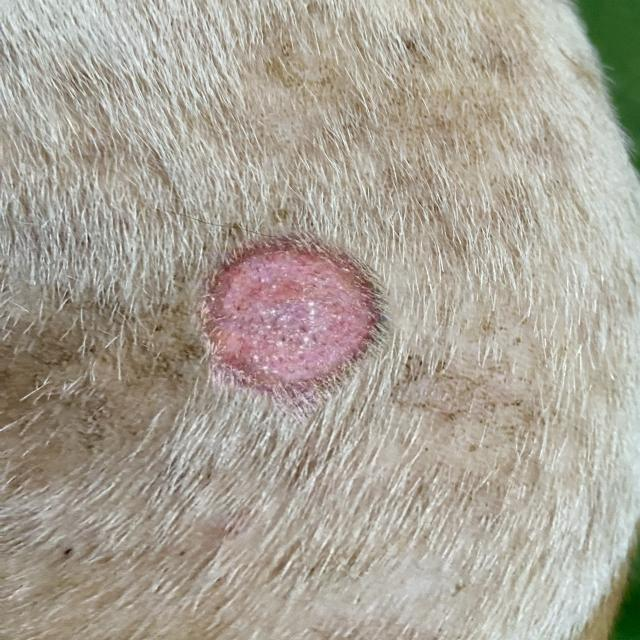ringworm: (186, 232, 397, 408)
